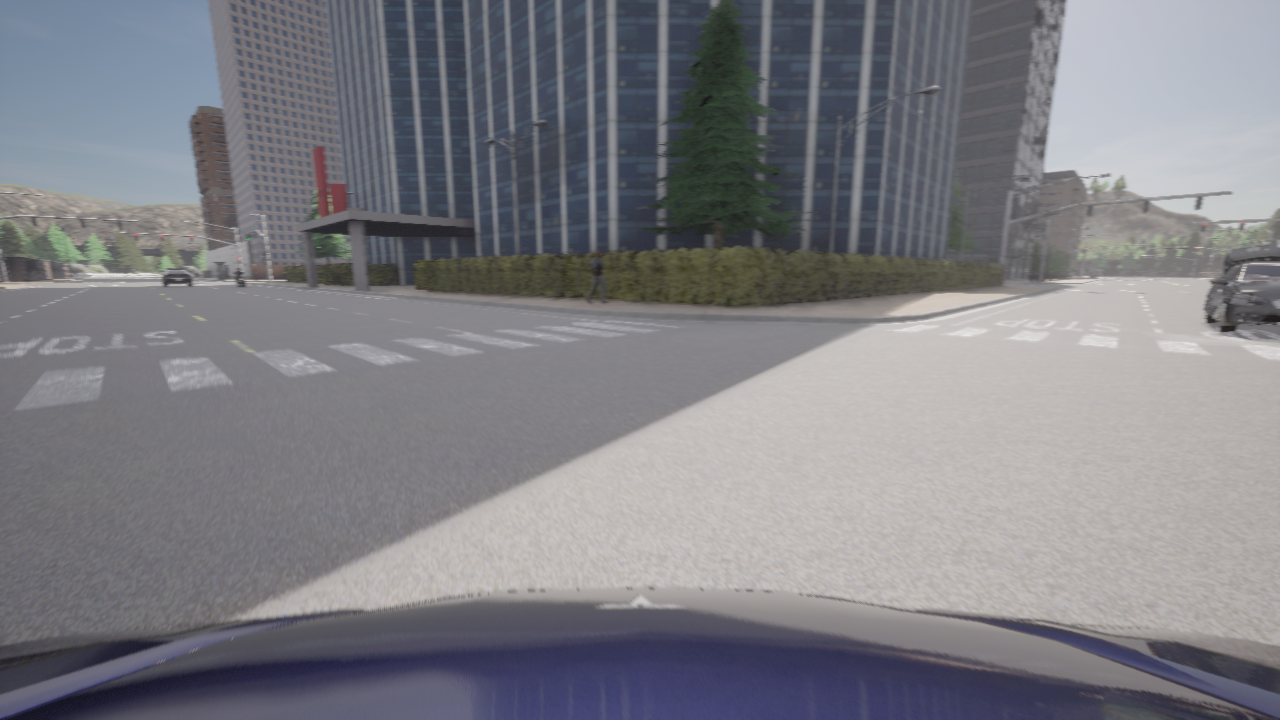cyclist: (0, 588, 1279, 719), (1203, 262, 1279, 332), (1220, 239, 1279, 277), (160, 268, 192, 286), (235, 273, 244, 286)
pedestrian: (587, 250, 608, 303)
